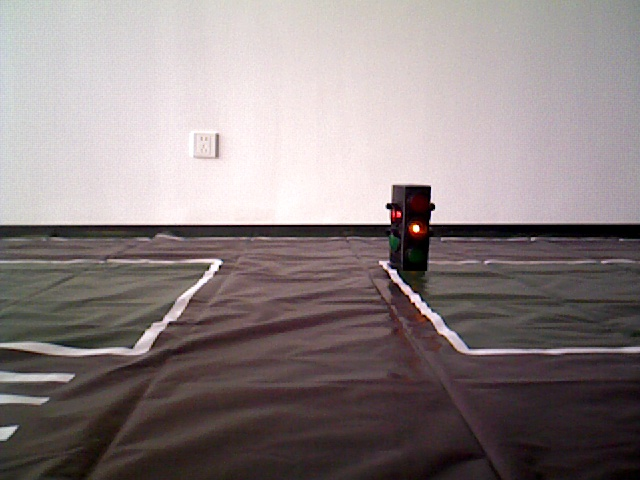yellow: (388, 185, 432, 276)
